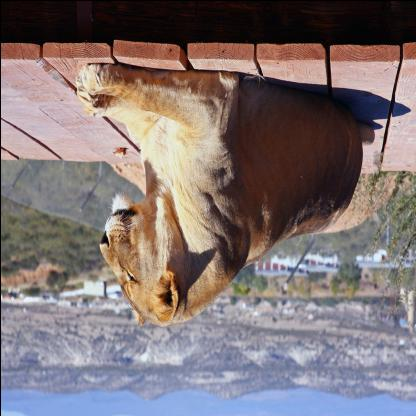lion: (97, 191, 189, 336)
